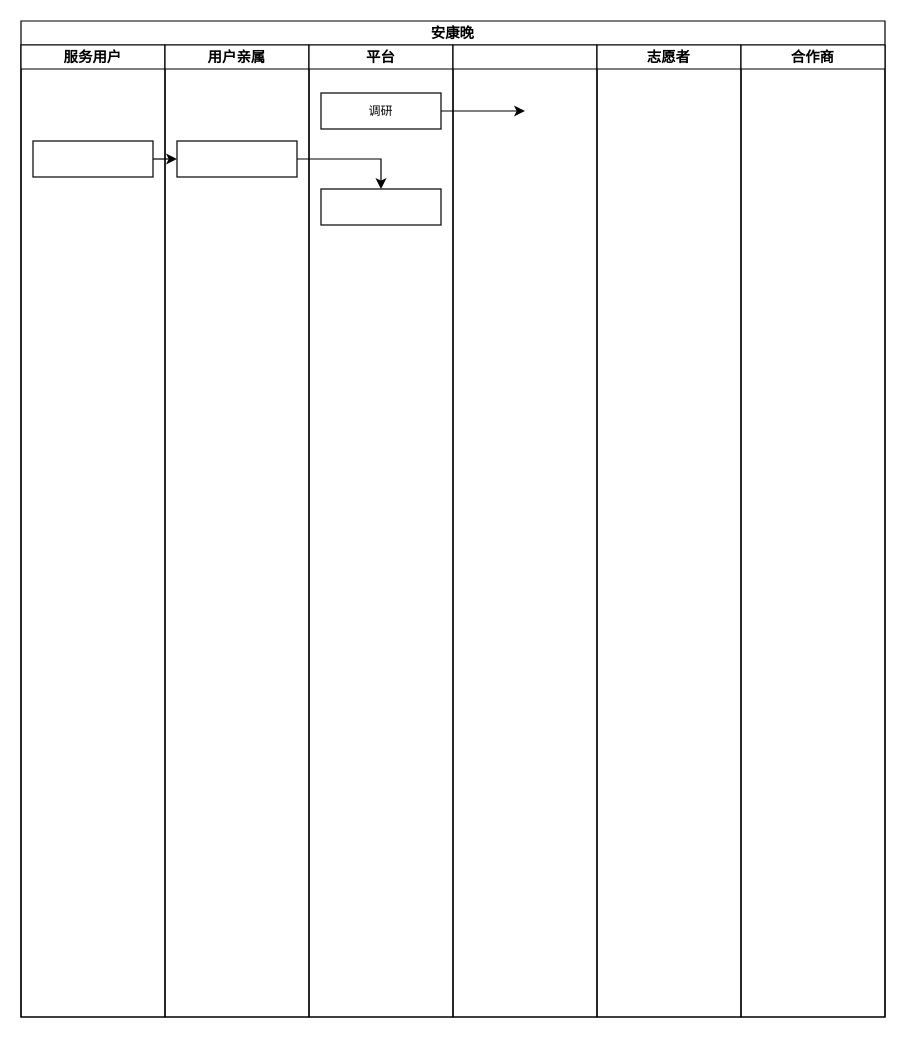
Image size: 906x1038. Some labels were removed from this diagram. The shapes that lost their labels are listed below. From the top down, each one's centre as x and y in pixels, then its label:
point 92,158: 寻求“三安”服务
point 236,158: 放心托付
point 380,206: 平台咨询
point 524,530: 养老院
